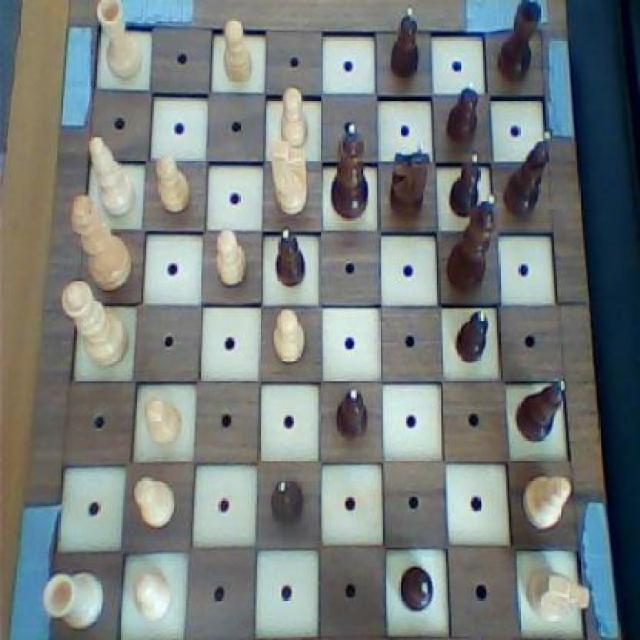bishop: (500, 128, 555, 222), (515, 375, 571, 448)
black-bishop: (445, 192, 500, 296)
black-king: (385, 137, 432, 224)
black-knight: (384, 6, 424, 85), (440, 77, 483, 150), (329, 382, 374, 443), (449, 306, 492, 369), (448, 147, 484, 220), (271, 223, 309, 290), (266, 474, 309, 530), (396, 561, 434, 614)
black-pawn: (326, 117, 372, 225)
black-queen: (494, 0, 541, 85)
black-rook: (88, 129, 138, 221), (520, 466, 575, 534)
white-bishop: (68, 192, 136, 296)
white-king: (525, 565, 596, 629), (264, 132, 314, 221)
white-knight: (129, 469, 178, 534), (217, 14, 255, 87), (128, 568, 174, 628), (151, 148, 192, 215), (210, 224, 248, 292), (269, 303, 308, 369), (276, 83, 312, 154), (143, 394, 184, 449)
white-pawn: (57, 278, 131, 371)
white-queen: (92, 0, 145, 86), (40, 565, 106, 632)
